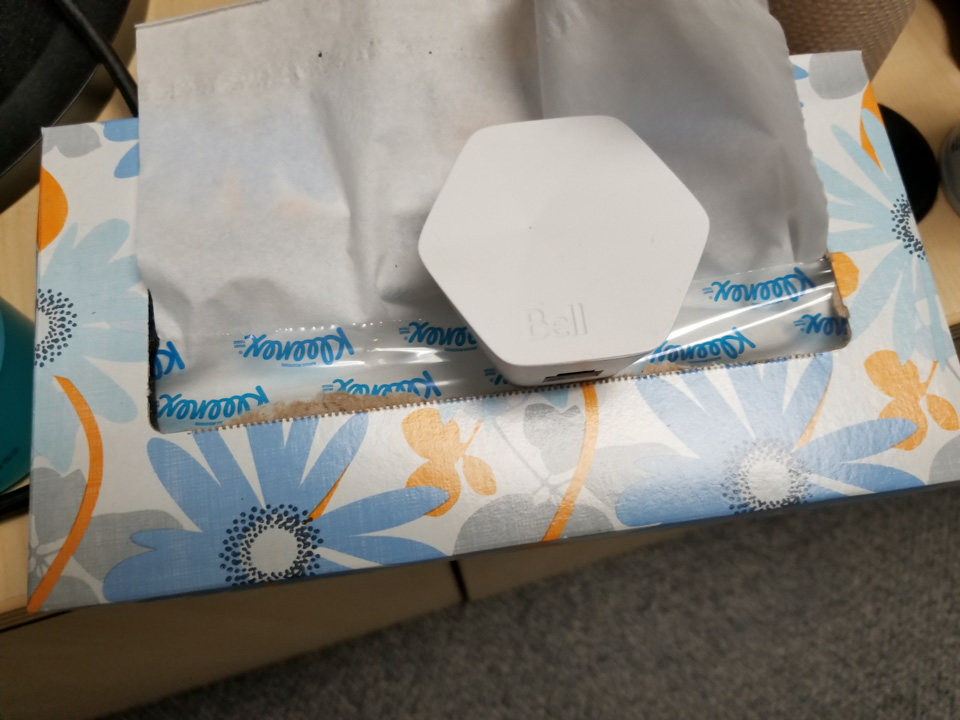pod: (408, 110, 719, 397)
